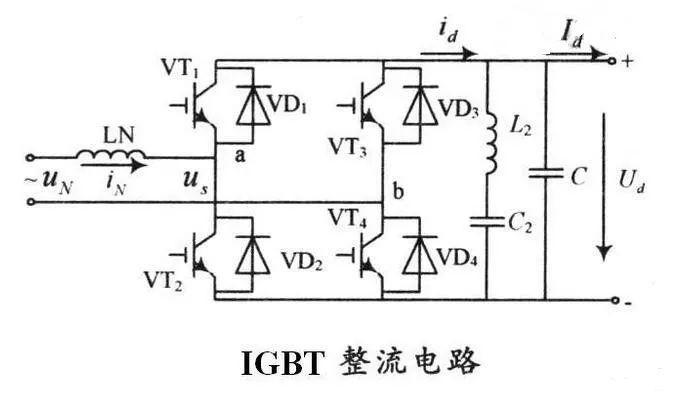cap1: (465, 213, 508, 233), (526, 163, 568, 183)
diode: (234, 80, 274, 131), (233, 229, 274, 278), (400, 230, 439, 280), (402, 81, 439, 131)
inductance: (481, 104, 503, 182), (72, 145, 150, 162)
triode: (348, 77, 391, 133), (180, 79, 223, 132), (349, 228, 389, 282), (182, 228, 221, 281)
